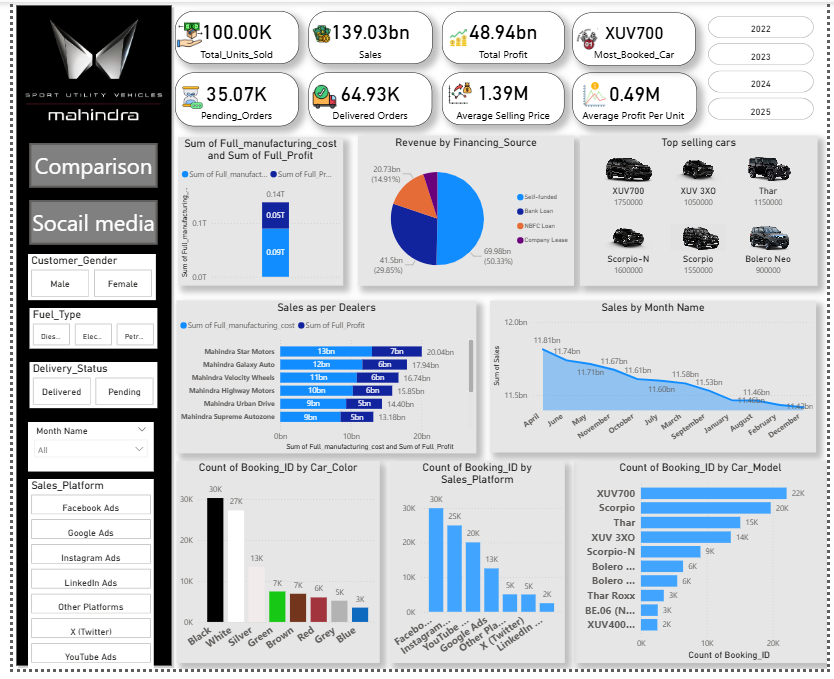

Layout of this report page (visuals, bound fields, positions):
{"tool":"powerbi","page":{"name":"Sales","canvas":[1280,1050],"ordinal":0},"visuals":[{"type":"shape","box":[0,0,255,1050],"z":0},{"type":"image","box":[0,0,252.5,210],"z":1000},{"type":"card","fields":{"Values":["Sum(Sales.Full_sales)"]},"box":[464.4,13.3,195.2,83.4],"z":2000},{"type":"card","fields":{"Values":["Sales.Total_Profit_Full"]},"box":[674.8,13.3,193.3,83.4],"z":3000},{"type":"card","fields":{"Values":["Sales.Total_Units_Sold"]},"box":[254,13.3,195.2,83.4],"z":4000},{"type":"card","fields":{"Values":["Sales.Delivered Orders"]},"box":[465.6,111.1,194.4,84.4],"z":5000},{"type":"card","fields":{"Values":["Sales.Pending_Orders"]},"box":[255.6,110,194.4,84.4],"z":6000},{"type":"card","fields":{"Values":["Sales.Average Selling Price"]},"box":[675.2,110.1,192.7,82.6],"z":7000},{"type":"card","fields":{"Values":["Sales.Average Profit Per Unit Full"]},"box":[880.9,110.1,195.9,84.2],"z":8000},{"type":"advancedSlicerVisual","fields":{"Values":["Sales.Year"]},"box":[1088.6,15.7,177.1,177.1],"z":9000},{"type":"barChart","title":"Sales as per Dealers","fields":{"Category":["Sales.Dealer_Name"],"Y":["Sum(Sales.Full_manufacturing_cost)","Sum(Sales.Full_Profit)"]},"box":[257.4,469.9,472.3,240.9],"z":10000},{"type":"lineChart","title":"Sales by Month Name","fields":{"Category":["Sales.Month Name"],"Y":["Sum(Sales.Full_sales)"]},"box":[751.3,469.6,513.3,239.6],"z":11000},{"type":"columnChart","fields":{"Y":["Sum(Sales.Full_manufacturing_cost)","Sum(Sales.Full_Profit)"]},"box":[259.8,212.5,259.8,233.8],"z":12000},{"type":"actionButton","box":[27.1,222.9,201.4,70],"z":13000},{"type":"actionButton","box":[25.7,311.4,201.4,70],"z":14000},{"type":"pieChart","fields":{"Category":["Sales.Financing_Source"],"Y":["Sales.Revenue"]},"box":[542.2,211.1,340,236.7],"z":15000},{"type":"advancedSlicerVisual","title":"Top  selling cars","fields":{"Values":["Mahindra_Product with img.Car_Model"]},"box":[892.2,210.5,374,236.4],"z":16000},{"type":"columnChart","fields":{"Category":["Sales.Car_Color"],"Y":["CountNonNull(Sales.Booking_ID)"]},"box":[258,722,320,318],"z":17000},{"type":"clusteredBarChart","fields":{"Category":["Sales.Car_Model"],"Y":["CountNonNull(Sales.Booking_ID)"]},"box":[882,722,398,318],"z":18000},{"type":"image","box":[253.3,25.8,50.8,50.8],"z":19000},{"type":"image","box":[682.5,35,36.7,41.7],"z":20000},{"type":"image","box":[258.9,127.8,45.6,45.6],"z":21000},{"type":"image","box":[464.4,125.6,50,47.8],"z":22000},{"type":"image","box":[678.6,119.3,51.4,46.4],"z":23000},{"type":"image","box":[887.1,118.6,55,55],"z":24000},{"type":"image","box":[464.3,31.4,42.1,39.3],"z":25000},{"type":"card","fields":{"Values":["Sales.Most_Booked_Car"]},"box":[881.4,15.7,194.3,84.3],"z":26000},{"type":"advancedSlicerVisual","fields":{"Values":["Sales.Fuel_Type"]},"box":[25.7,482.9,201.4,64.3],"z":27000},{"type":"advancedSlicerVisual","fields":{"Values":["Sales.Delivery_Status"]},"box":[25.7,567.1,201.4,72.9],"z":28000},{"type":"slicer","fields":{"Values":["Sales.Month Name"]},"box":[24,662,198,78],"z":29000},{"type":"advancedSlicerVisual","fields":{"Values":["Sales.Sales_Platform"]},"box":[24,750,198,300],"z":30000},{"type":"columnChart","fields":{"Category":["Sales.Sales_Platform"],"Y":["CountNonNull(Sales.Booking_ID)"]},"box":[592,722,276,318],"z":31000},{"type":"advancedSlicerVisual","fields":{"Values":["Sales.Customer_Gender"]},"box":[24.3,397.1,201.4,72.9],"z":32000},{"type":"image","box":[881.2,35,45,45],"z":33000}]}

Visuals, with their boxes in screenshot pixels (x1, y1, x2, y2), scaled from the page's 1280x1050 canvas onto the 834x679 screenshot:
shape: select_region(0, 0, 166, 678)
image: select_region(0, 0, 165, 136)
card - Sum(Sales.Full_sales): select_region(303, 9, 430, 63)
card - Sales.Total_Profit_Full: select_region(440, 9, 566, 63)
card - Sales.Total_Units_Sold: select_region(165, 9, 293, 63)
card - Sales.Delivered Orders: select_region(303, 72, 430, 126)
card - Sales.Pending_Orders: select_region(167, 71, 293, 126)
card - Sales.Average Selling Price: select_region(440, 71, 565, 125)
card - Sales.Average Profit Per Unit Full: select_region(574, 71, 702, 126)
advancedSlicerVisual - Sales.Year: select_region(709, 10, 825, 125)
"Sales as per Dealers" barChart: select_region(168, 304, 475, 460)
"Sales by Month Name" lineChart: select_region(490, 304, 824, 459)
columnChart - Sum(Sales.Full_manufacturing_cost) x Sum(Sales.Full_Profit): select_region(169, 137, 339, 289)
actionButton: select_region(18, 144, 149, 189)
actionButton: select_region(17, 201, 148, 247)
pieChart - Sales.Financing_Source x Sales.Revenue: select_region(353, 137, 575, 290)
"Top  selling cars" advancedSlicerVisual: select_region(581, 136, 825, 289)
columnChart - Sales.Car_Color x CountNonNull(Sales.Booking_ID): select_region(168, 467, 377, 673)
clusteredBarChart - Sales.Car_Model x CountNonNull(Sales.Booking_ID): select_region(575, 467, 833, 673)
image: select_region(165, 17, 198, 50)
image: select_region(445, 23, 469, 50)
image: select_region(169, 83, 198, 112)
image: select_region(303, 81, 335, 112)
image: select_region(442, 77, 476, 107)
image: select_region(578, 77, 614, 112)
image: select_region(303, 20, 330, 46)
card - Sales.Most_Booked_Car: select_region(574, 10, 701, 65)
advancedSlicerVisual - Sales.Fuel_Type: select_region(17, 312, 148, 354)
advancedSlicerVisual - Sales.Delivery_Status: select_region(17, 367, 148, 414)
slicer - Sales.Month Name: select_region(16, 428, 145, 479)
advancedSlicerVisual - Sales.Sales_Platform: select_region(16, 485, 145, 678)
columnChart - Sales.Sales_Platform x CountNonNull(Sales.Booking_ID): select_region(386, 467, 566, 673)
advancedSlicerVisual - Sales.Customer_Gender: select_region(16, 257, 147, 304)
image: select_region(574, 23, 603, 52)
